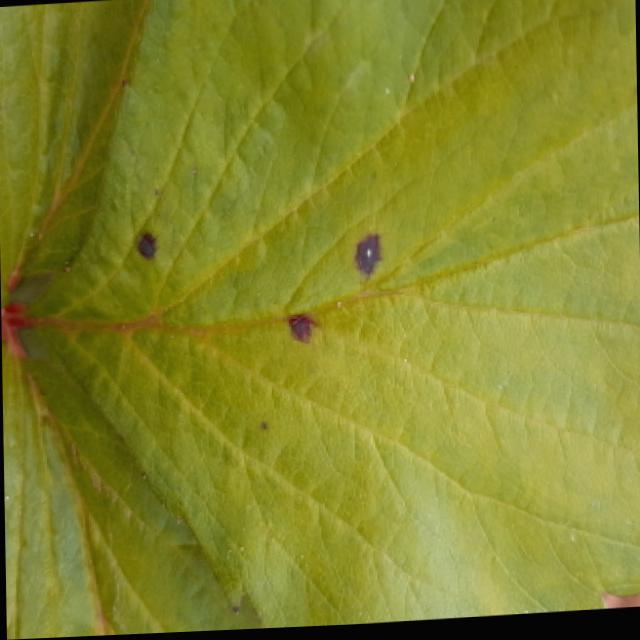Leaf Spot: (13, 0, 640, 631)
